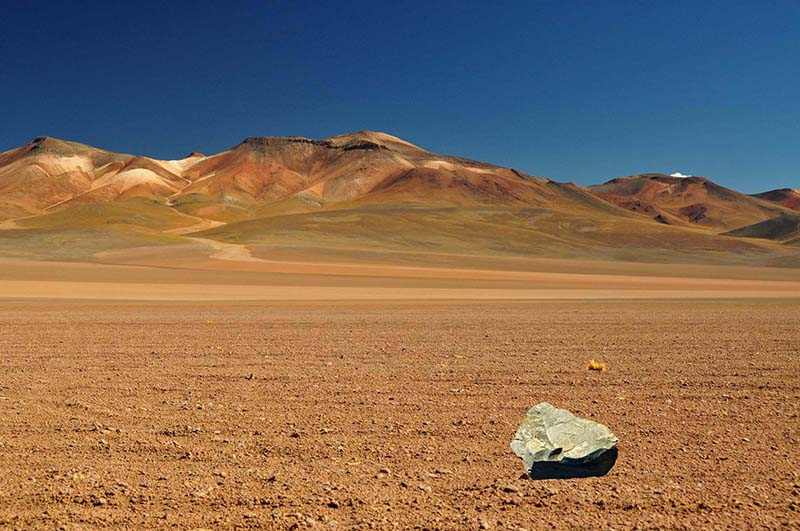Rocks: (507, 392, 623, 485)
